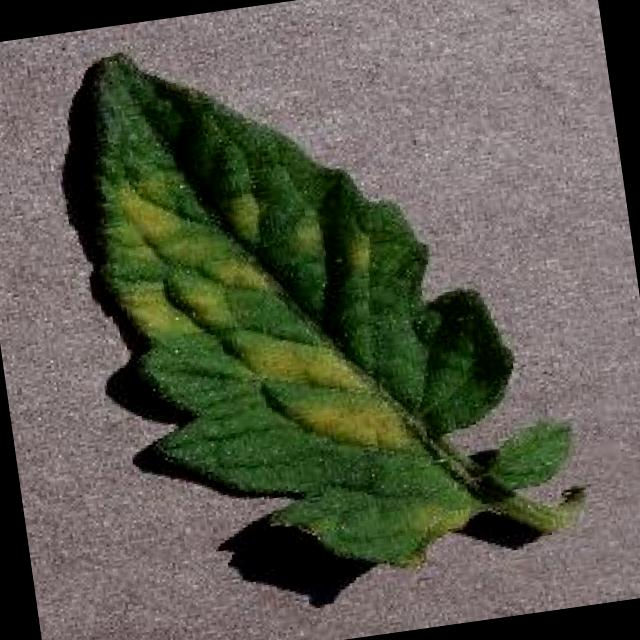leaf mold: (62, 48, 568, 569)
